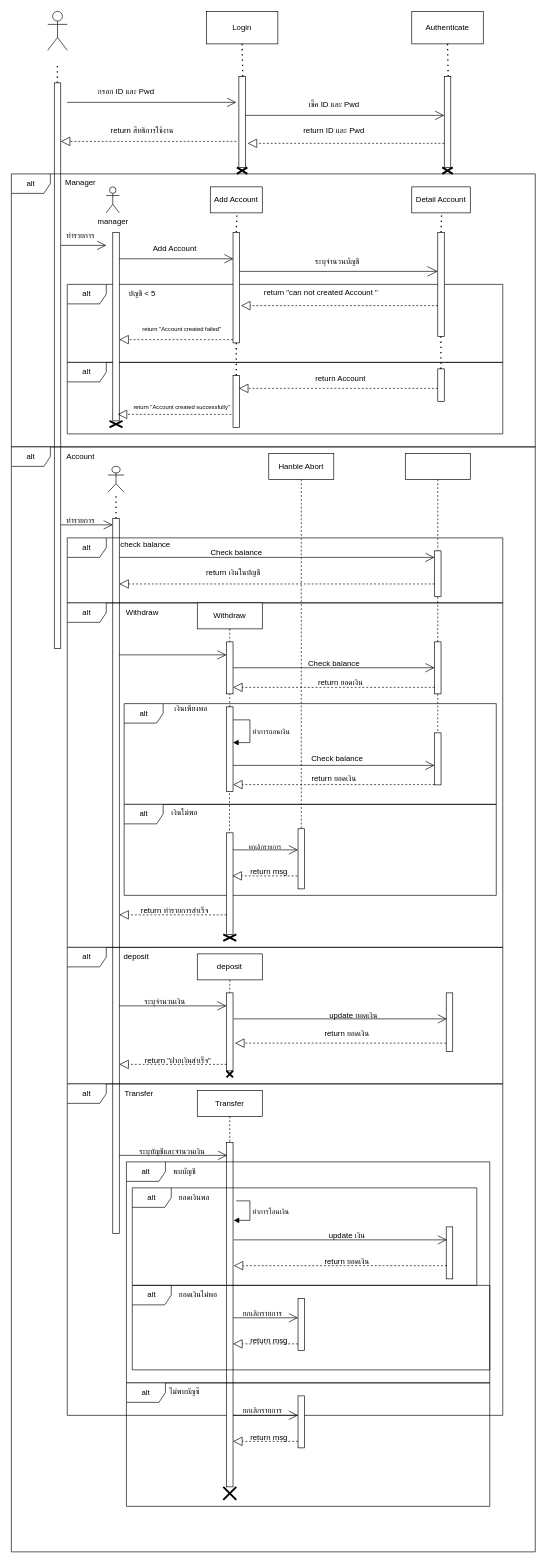
The diagram is 547 pixels wide and 1563 high, and some of its shapes have lost their labels. Each missing label, with the centre of its shape:
"Balance" belongs at [437,502].
"Customer" belongs at [115,479].
"person" belongs at [57,30].
